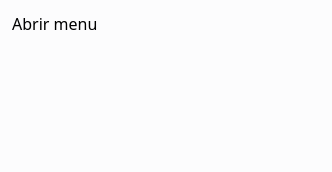
Test: DropdownMenu › abre ao ativar o acionador
Click the button "Abrir menu" at (55, 24), box [12,12,97,36]
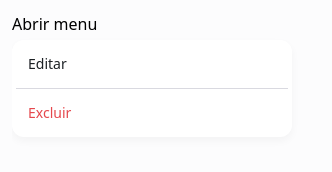
Now the menu is shown, box [12,40,292,137]
Now the menu item "Editar" is shown, box [28,54,67,73]
